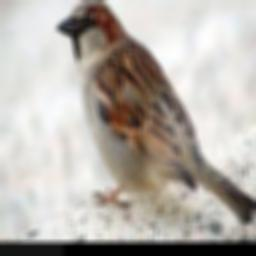Sparrow: (55, 0, 256, 223)
